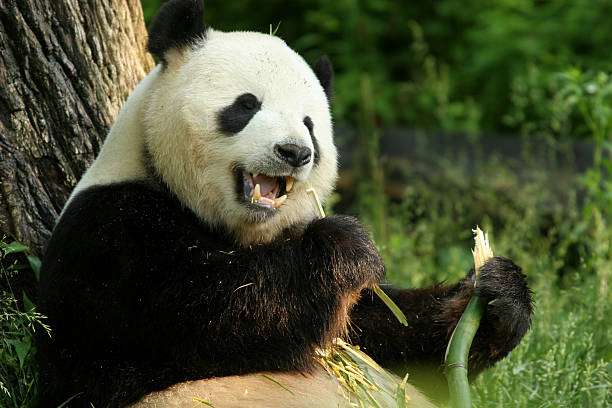panda: (133, 4, 369, 268)
